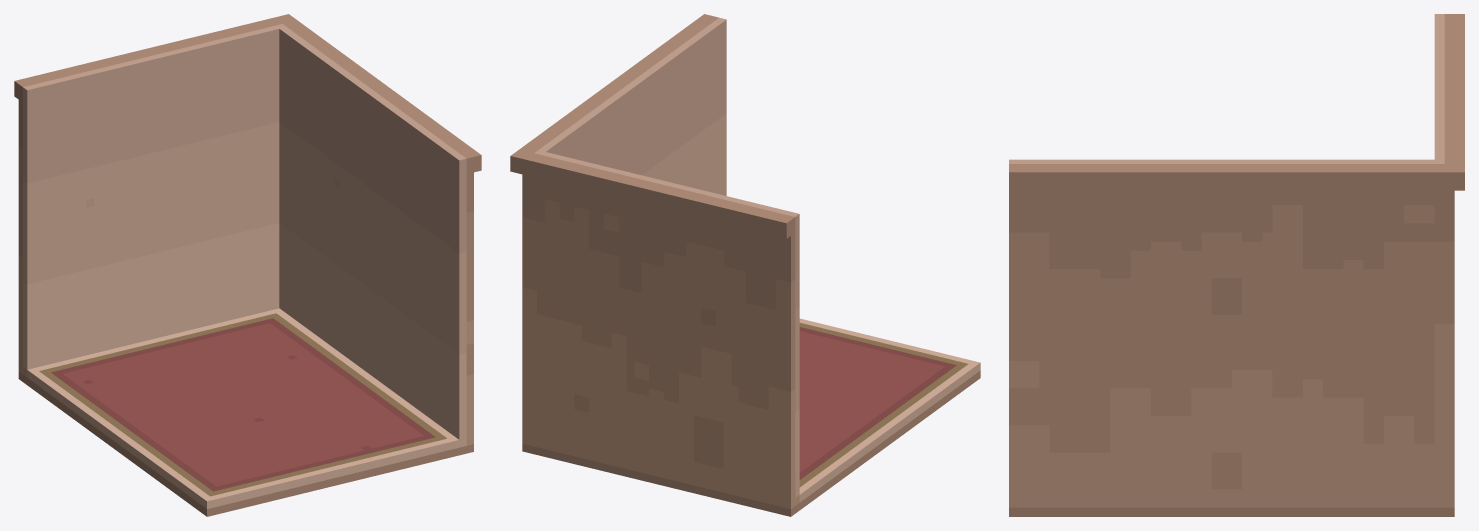
The model's file is Corner Cafe-15.obj.
The picture shows the model from 3 angles, left to right: view 1: azimuth 30°, elevation 25°; view 2: azimuth 150°, elevation 25°; view 3: azimuth 270°, elevation 25°; orthographic projection. The views are drawn at different scales.
Size of the model in its own units: 3.7 by 3.8 by 4.5.
Materials: 1 (1 with a texture image).
